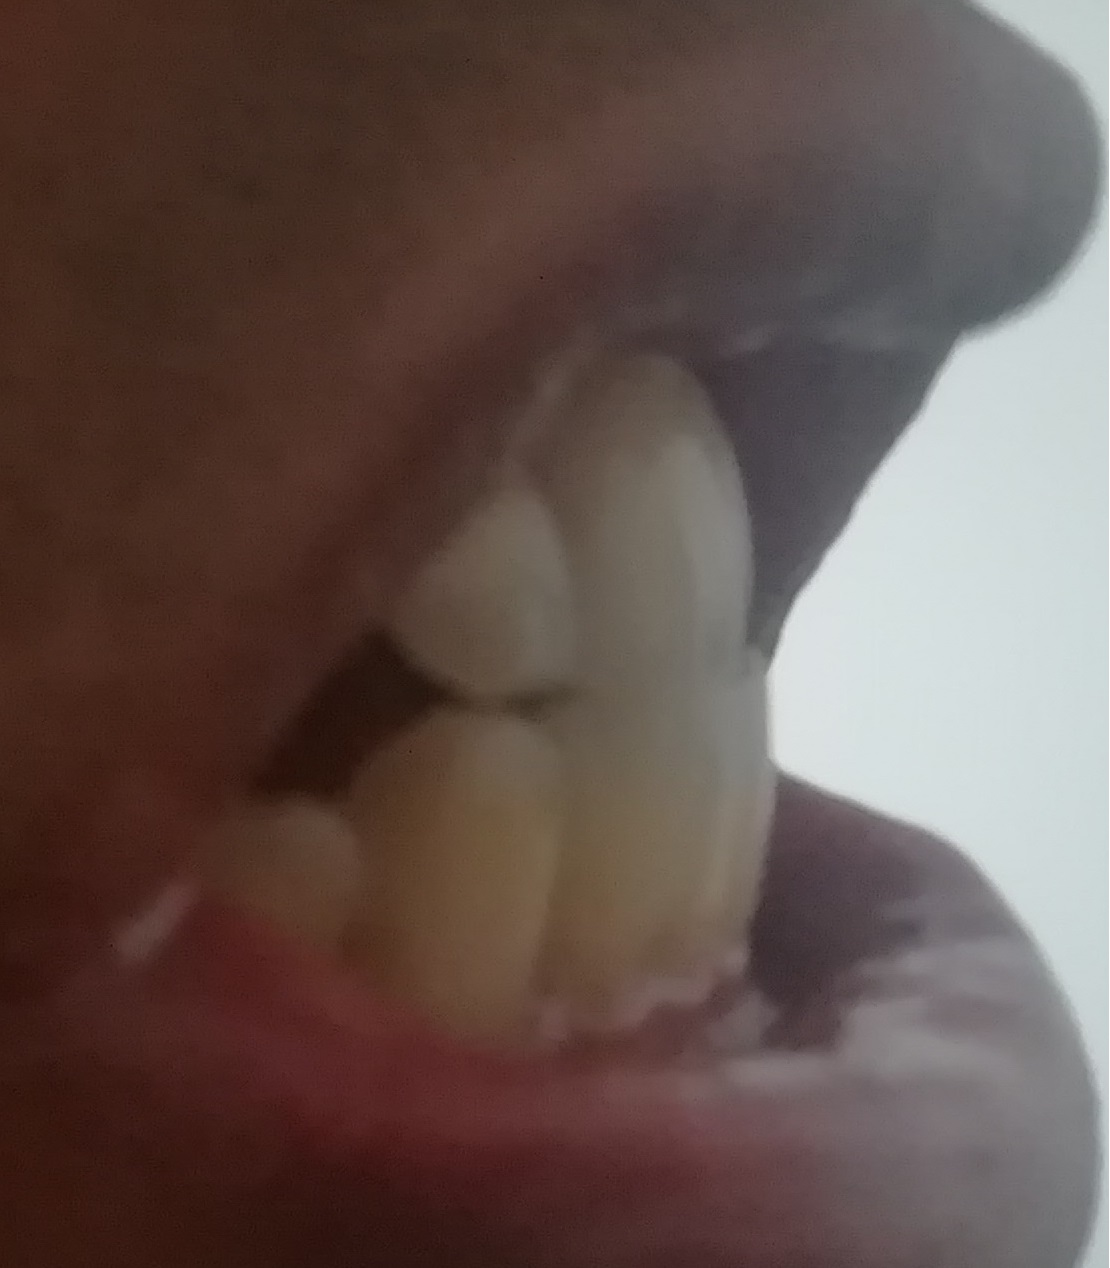boca: (222, 305, 766, 995)
